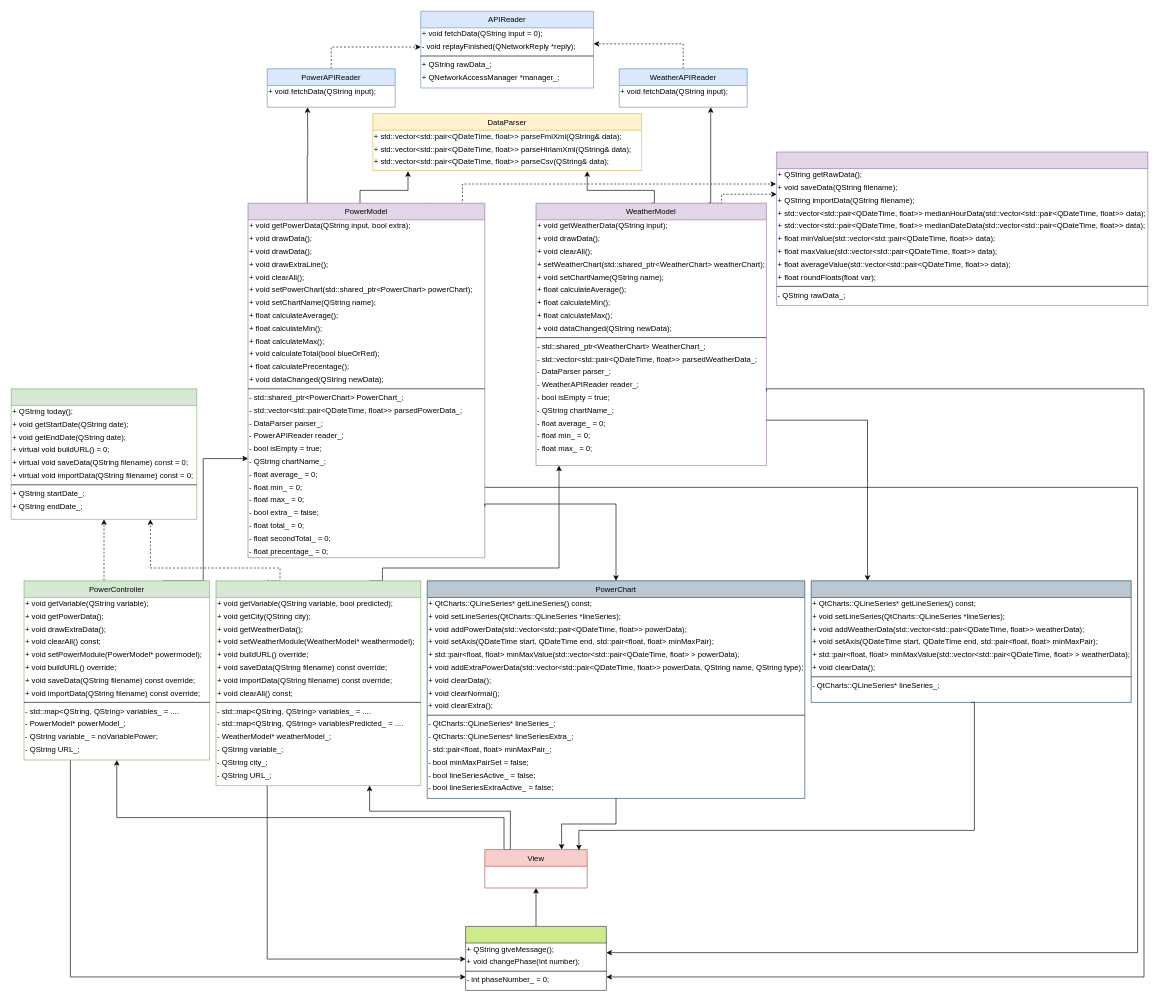
Image size: 1160x1002. Some labels were removed from this diagram. Each missing label, with the box of its shape:
Controller: (11, 388, 197, 519)
Model: (776, 151, 1148, 306)
Statistics: (465, 926, 606, 990)
WeatherChart: (811, 580, 1131, 702)
WeatherController: (215, 580, 421, 786)
